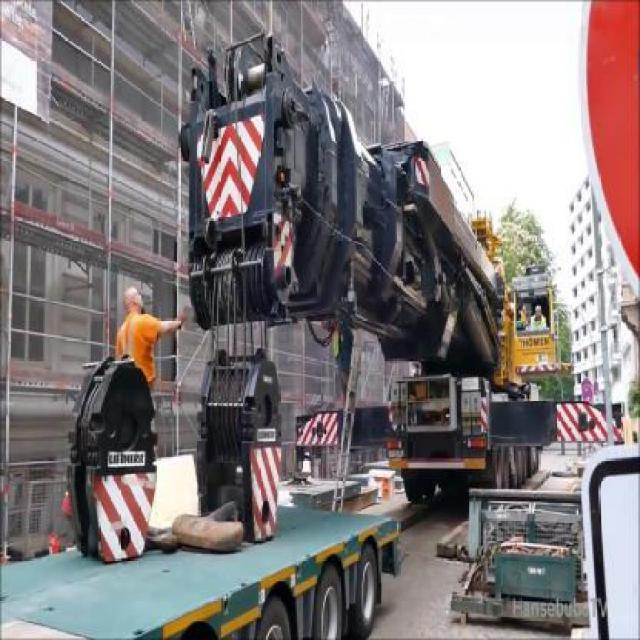Mobile Crane: (179, 39, 627, 546)
